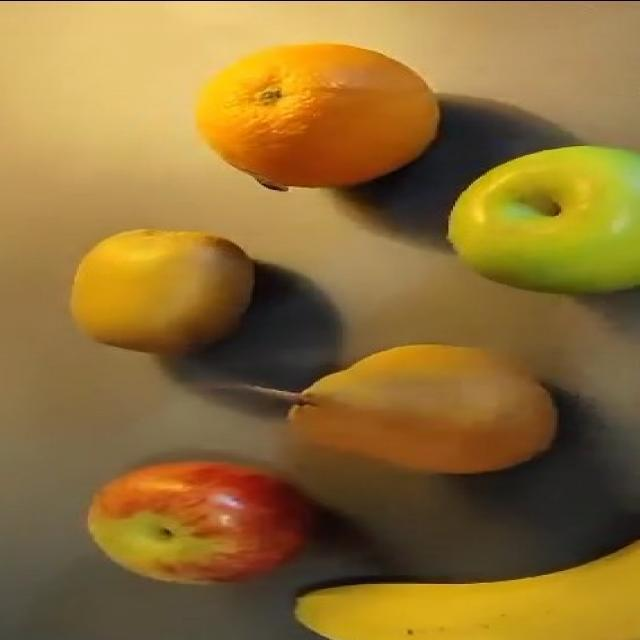Apple: (446, 144, 640, 301), (83, 456, 316, 581)
Banana: (293, 550, 640, 639)
Orange: (194, 42, 440, 188)
